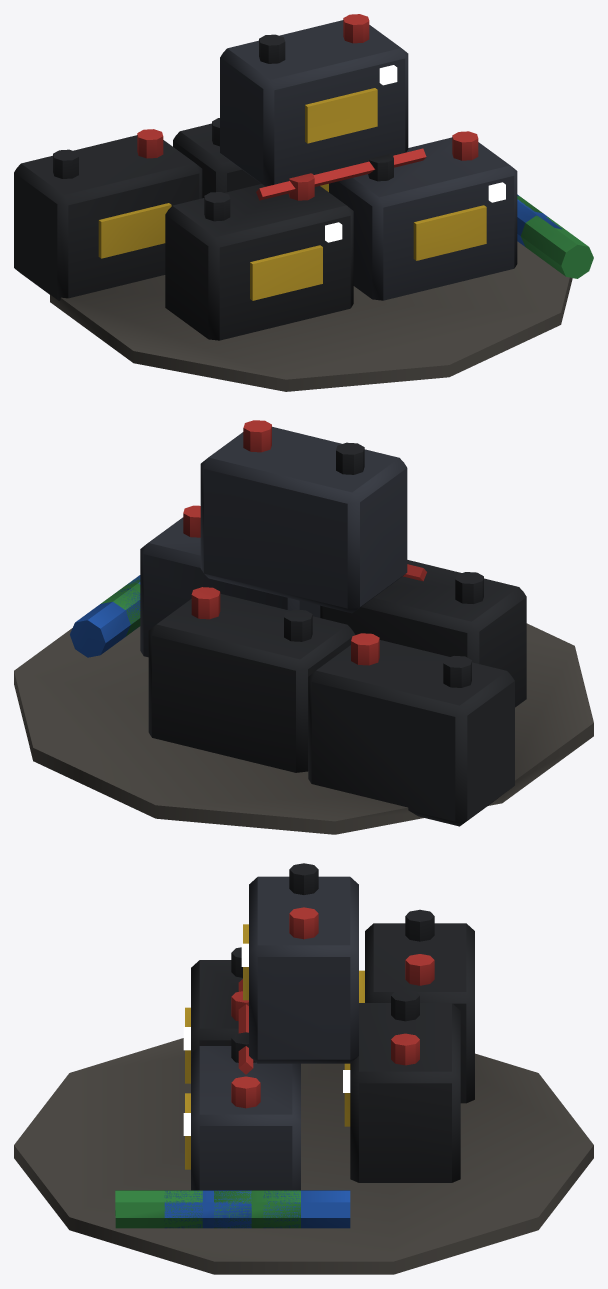
The model's file is n_akku.glb.
The picture shows the model from 3 angles, top to bottom: view 1: azimuth 30°, elevation 25°; view 2: azimuth 150°, elevation 25°; view 3: azimuth 270°, elevation 25°; orthographic projection. The views are drawn at different scales.
Parts seen in each view (by area): view 1: body, lamp_glow; view 2: body; view 3: body, lamp_glow.
Part boxes in pixels (<box>): body: <box>14,14,593,391</box>; lamp_glow: <box>325,65,505,242</box>; body: <box>14,420,593,834</box>; body: <box>14,863,593,1274</box>; lamp_glow: <box>183,943,350,1135</box>.
Size of the model in its own units: 1.91 by 1.01 by 2.
